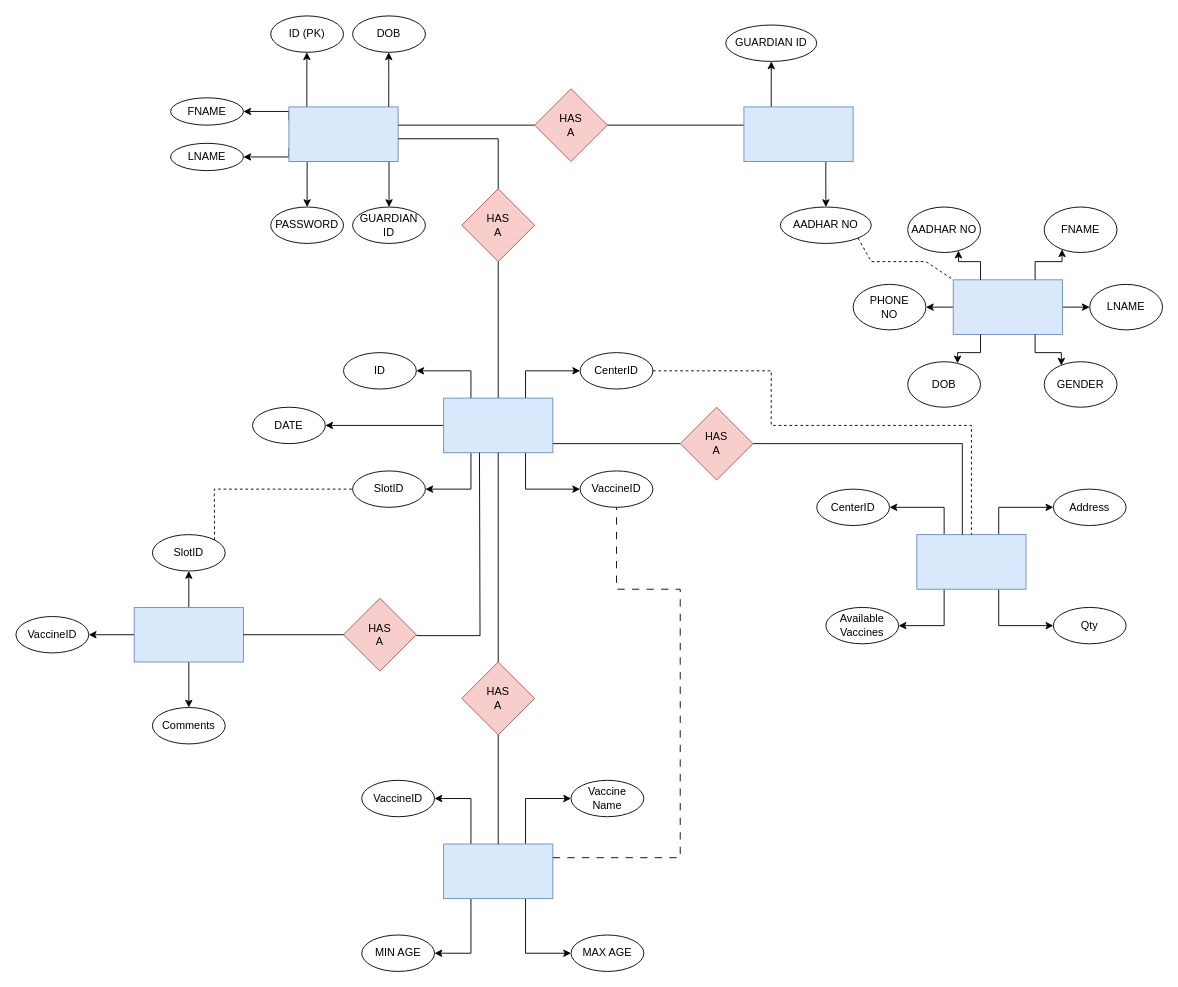
The diagram is 1178 pixels wide and 987 high, and some of its shapes have lost their labels. Each missing label, with the centre of its shape:
"AADHAR CARD" goes at (x=1007, y=306).
"CENTER" goes at (x=971, y=561).
"Child" goes at (x=343, y=134).
"FEEDBACK" goes at (x=188, y=634).
"GUARDIAN" goes at (x=798, y=134).
"SLOT" goes at (x=498, y=425).
"VACCINE" goes at (x=498, y=871).
